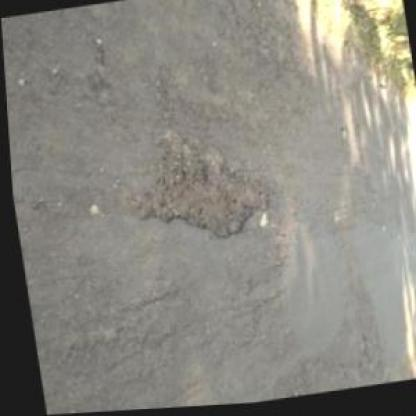pothole: (111, 118, 280, 256)
